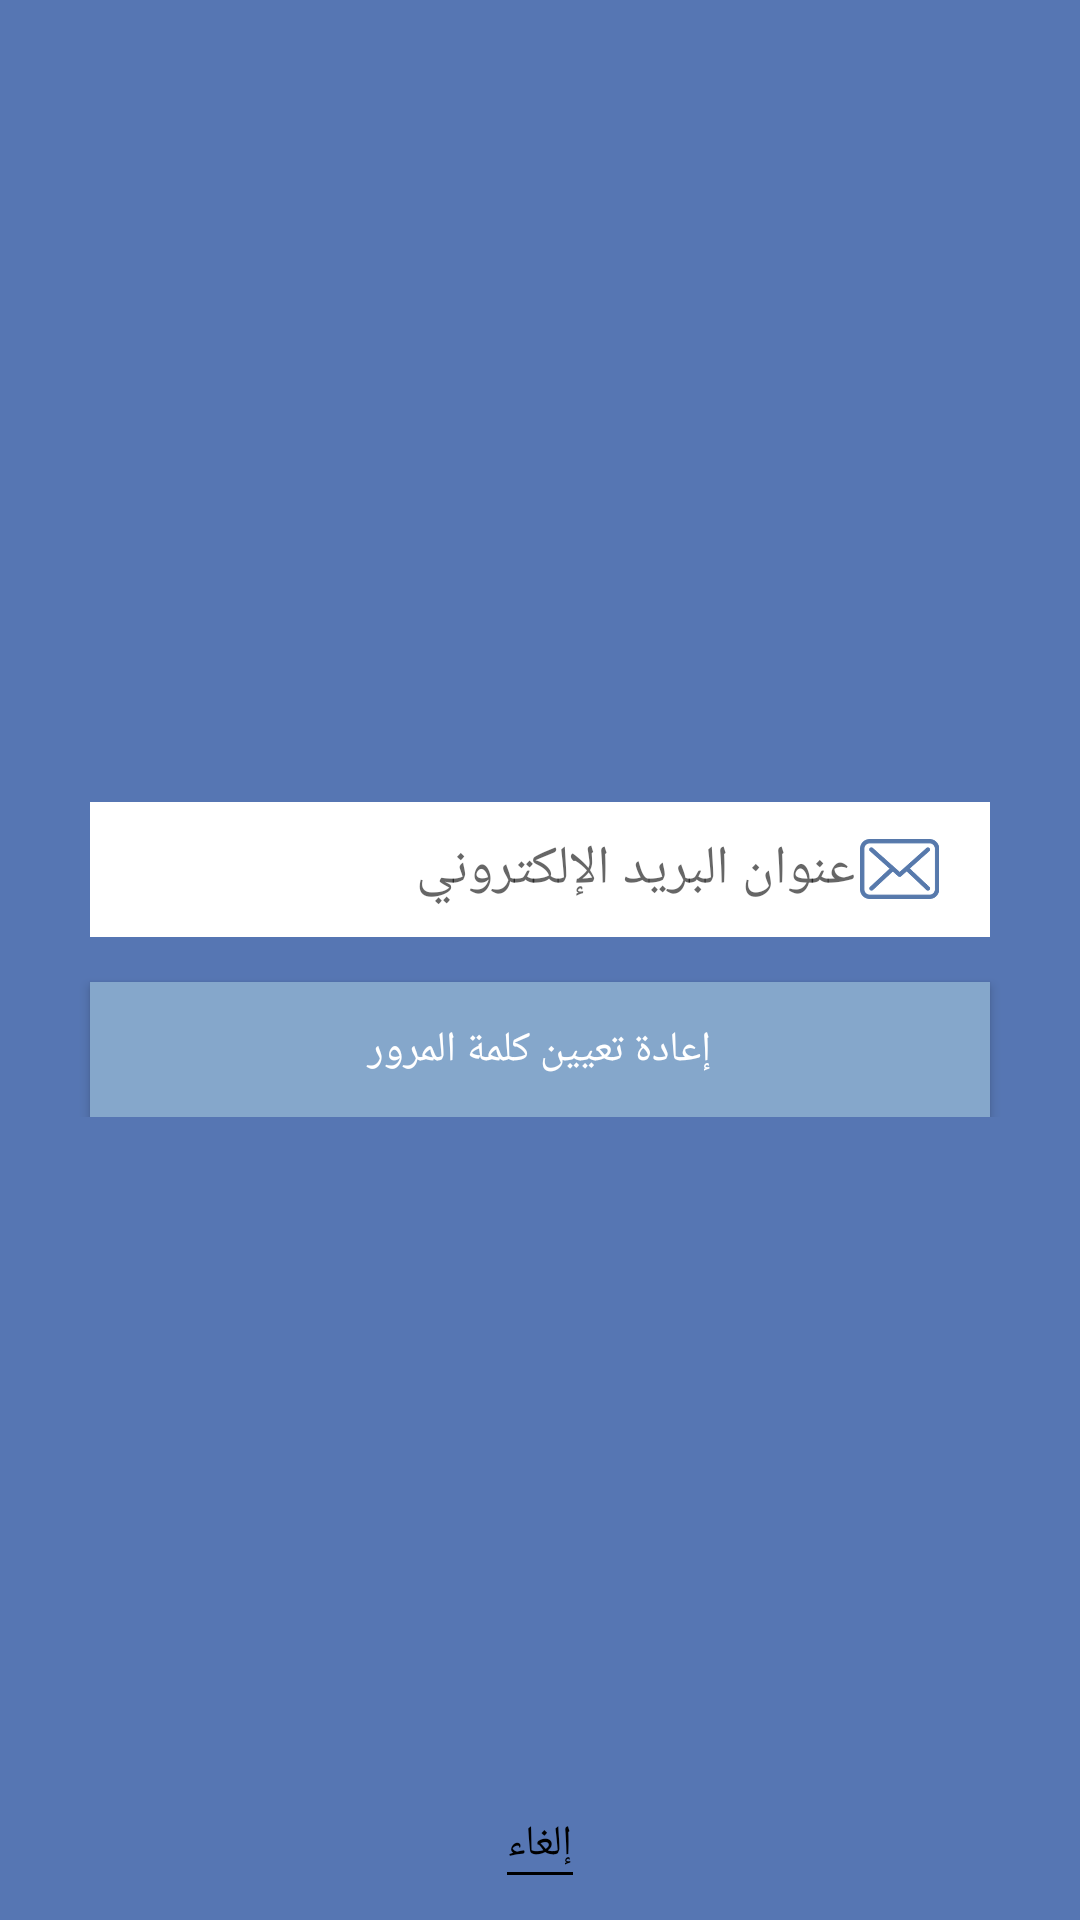

Icon click points for this 1080px×1920px phone screenshot, format (x=x, y=y):
email: (x=899, y=869)
